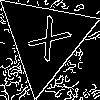X: (20, 14, 72, 71)
